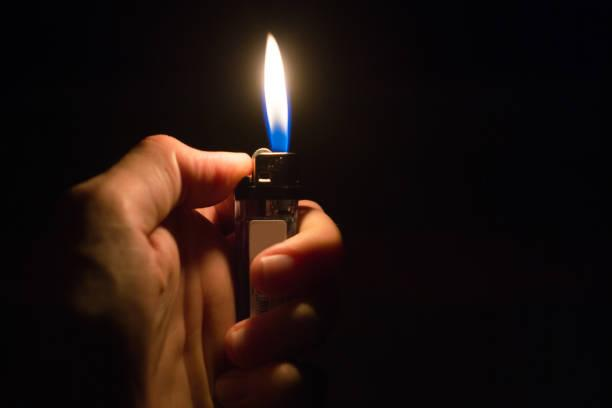Fire: (259, 27, 293, 153)
